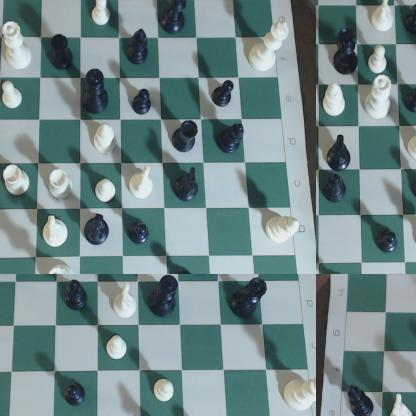black-bishop: (220, 119, 249, 162), (127, 29, 151, 67), (326, 172, 351, 208), (348, 385, 376, 416)
black-king: (149, 275, 180, 319), (84, 66, 111, 116)
black-knight: (172, 167, 203, 205), (325, 133, 352, 173), (84, 214, 113, 246)
black-pawn: (376, 222, 404, 259), (213, 80, 240, 114), (133, 80, 155, 117), (66, 278, 90, 311), (125, 222, 151, 248), (63, 383, 89, 407), (403, 6, 416, 37), (406, 88, 416, 122)
black-queen: (230, 275, 270, 322), (333, 27, 360, 76), (165, 1, 196, 38)
black-rook: (172, 116, 200, 156), (54, 35, 78, 73)
white-bishop: (320, 80, 349, 121), (263, 212, 301, 243), (95, 123, 121, 160)
white-king: (248, 21, 290, 80), (283, 374, 316, 413)
white-knight: (43, 213, 72, 250), (127, 167, 157, 201), (114, 284, 140, 321), (370, 1, 398, 33), (386, 393, 416, 416)
white-pawn: (1, 81, 25, 112), (369, 46, 391, 79), (90, 1, 116, 28), (152, 377, 177, 402), (96, 178, 119, 204), (107, 335, 129, 361)
white-queen: (1, 18, 35, 73), (364, 77, 393, 122), (42, 261, 79, 274)
white-rook: (2, 164, 34, 202), (49, 166, 74, 202), (410, 126, 416, 167)
